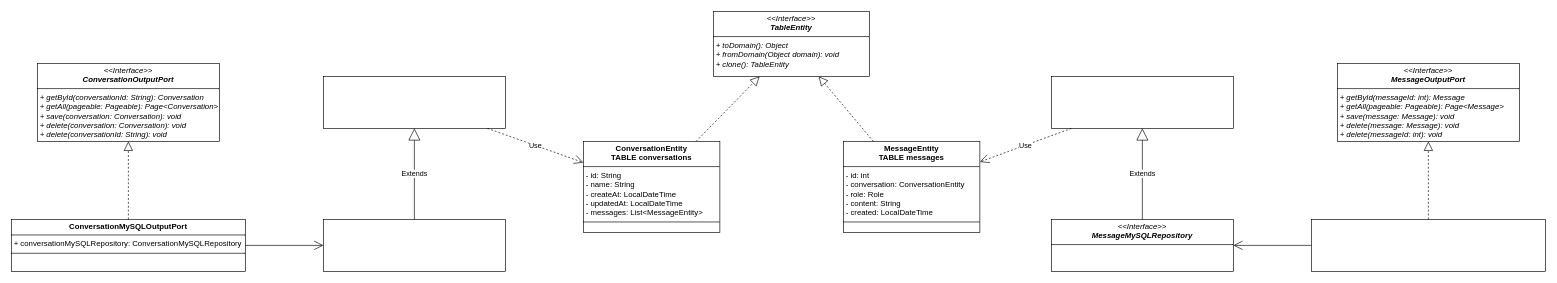
Some shapes in this 1557 by 283 pixel diagram are drawn without their labels. Each missing label, with the box of its shape:
<<Interface>> ConversationMySQLRepository: (323, 219, 505, 271)
<<Interface>> JpaRepository<ConversationEntity, String>: (323, 76, 505, 128)
<<Interface>> JpaRepository<MessageEntity, String>: (1051, 76, 1233, 128)
MessageMySQLOutputPort + messageMySQLRepository: MessageMySQLRepository: (1311, 219, 1545, 271)
